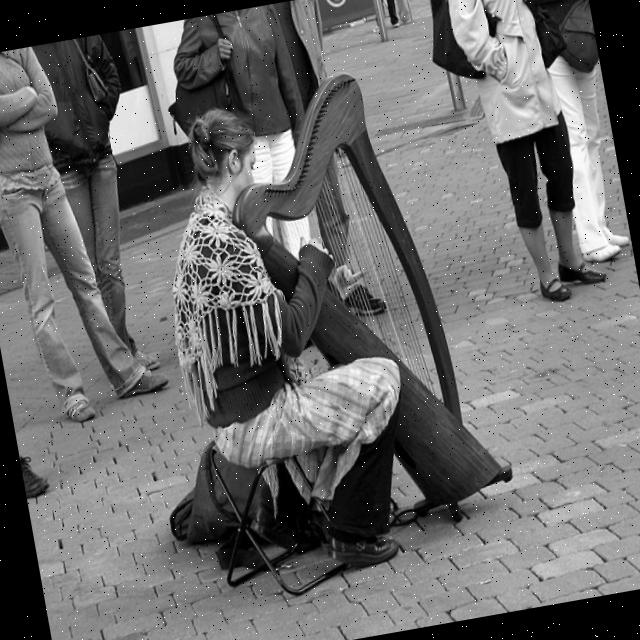harp: (209, 53, 522, 553)
